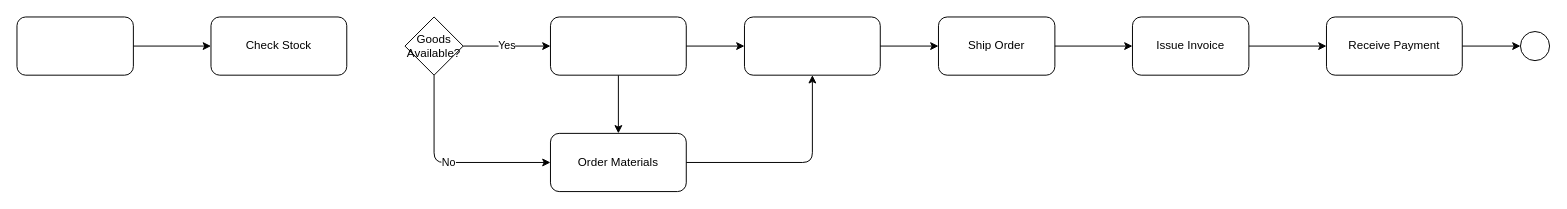
Some shapes in this 1567 by 209 pixel diagram are drawn without their labels. The box of each missing label's shape, as (x1, y1, x2, y2) in pixels:
Assemble Order: (744, 16, 880, 75)
Receive Order: (16, 16, 133, 75)
Retrieve Goods: (550, 16, 686, 75)
